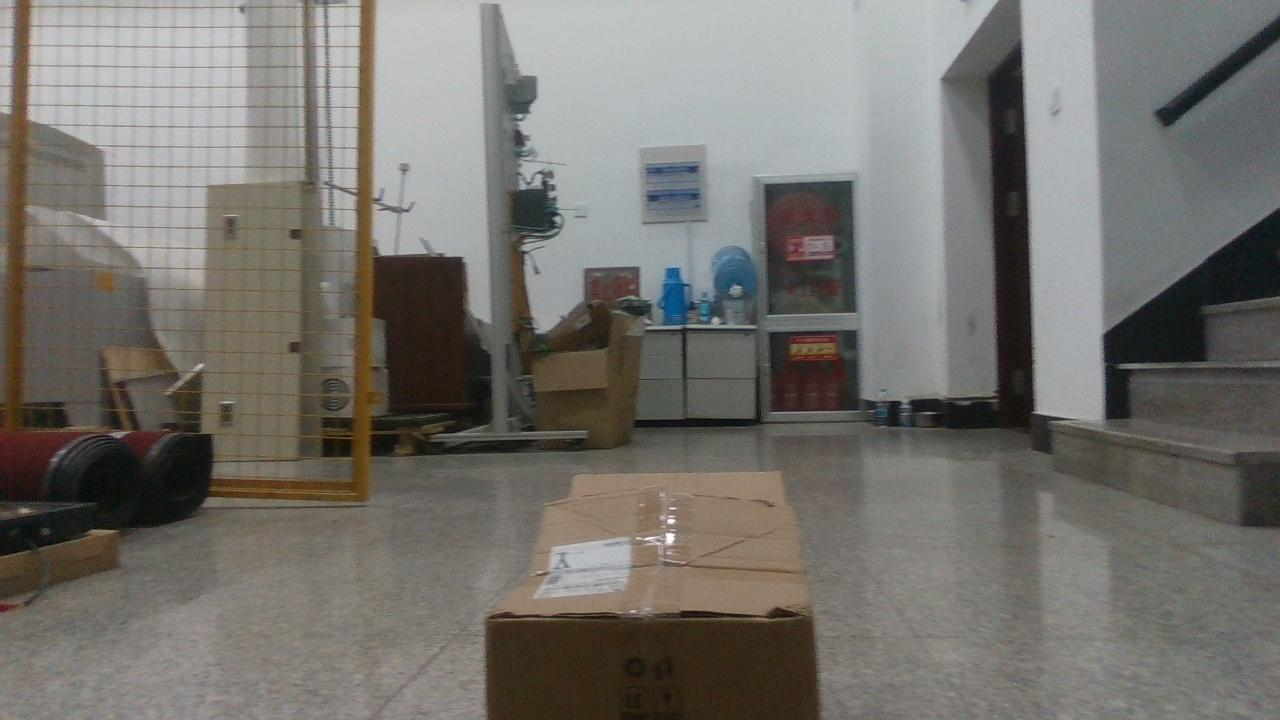box: (485, 472, 820, 719)
